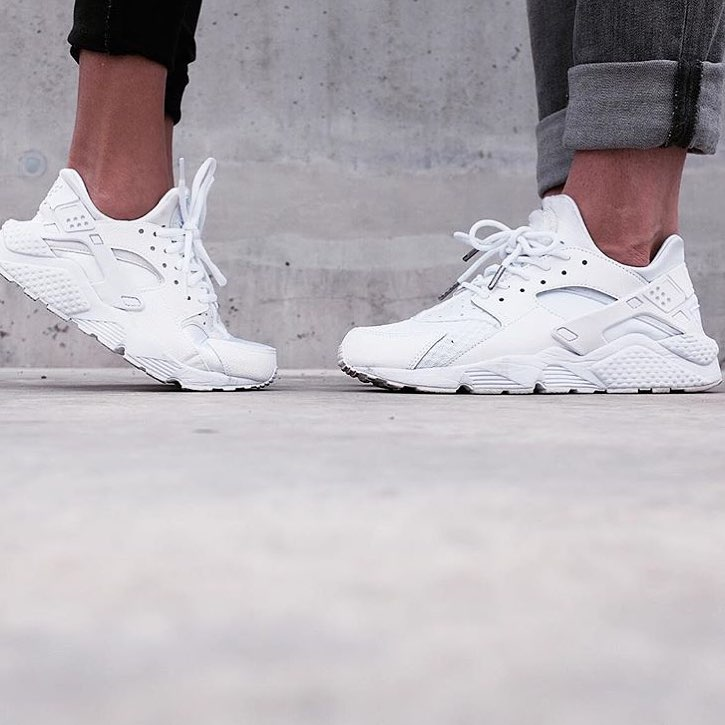sneaker: (325, 180, 725, 410)
